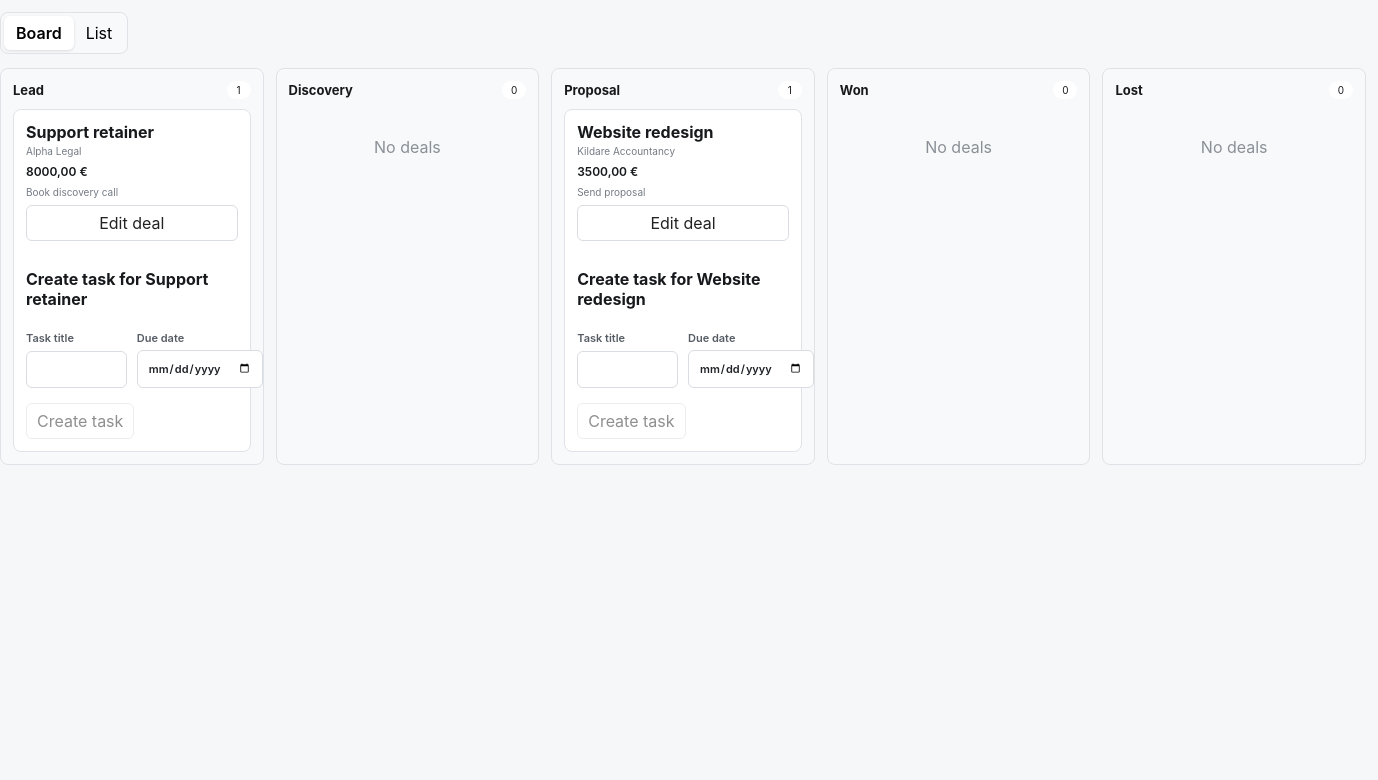
Scenario: deal workflow › switches to list view and filters persisted deals
The image size is (1378, 780).
Click the button "List": click(99, 33) [74,16,124,50]
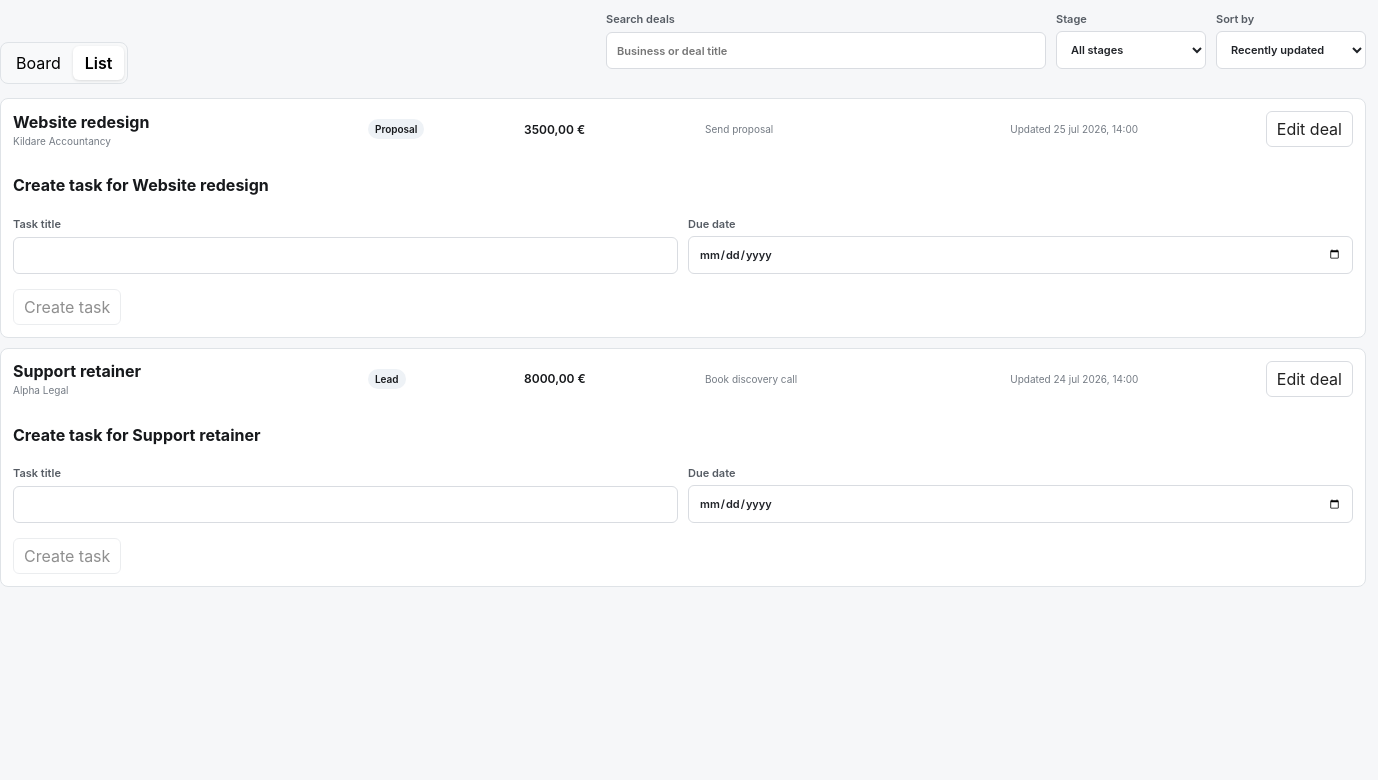
Result: the text "Website redesign" is shown at [13,112,149,132]
Result: the text "Support retainer" is shown at [13,361,141,381]
In the field labelled "Search deals": (826, 50) [606,32,1046,69], type "alpha"
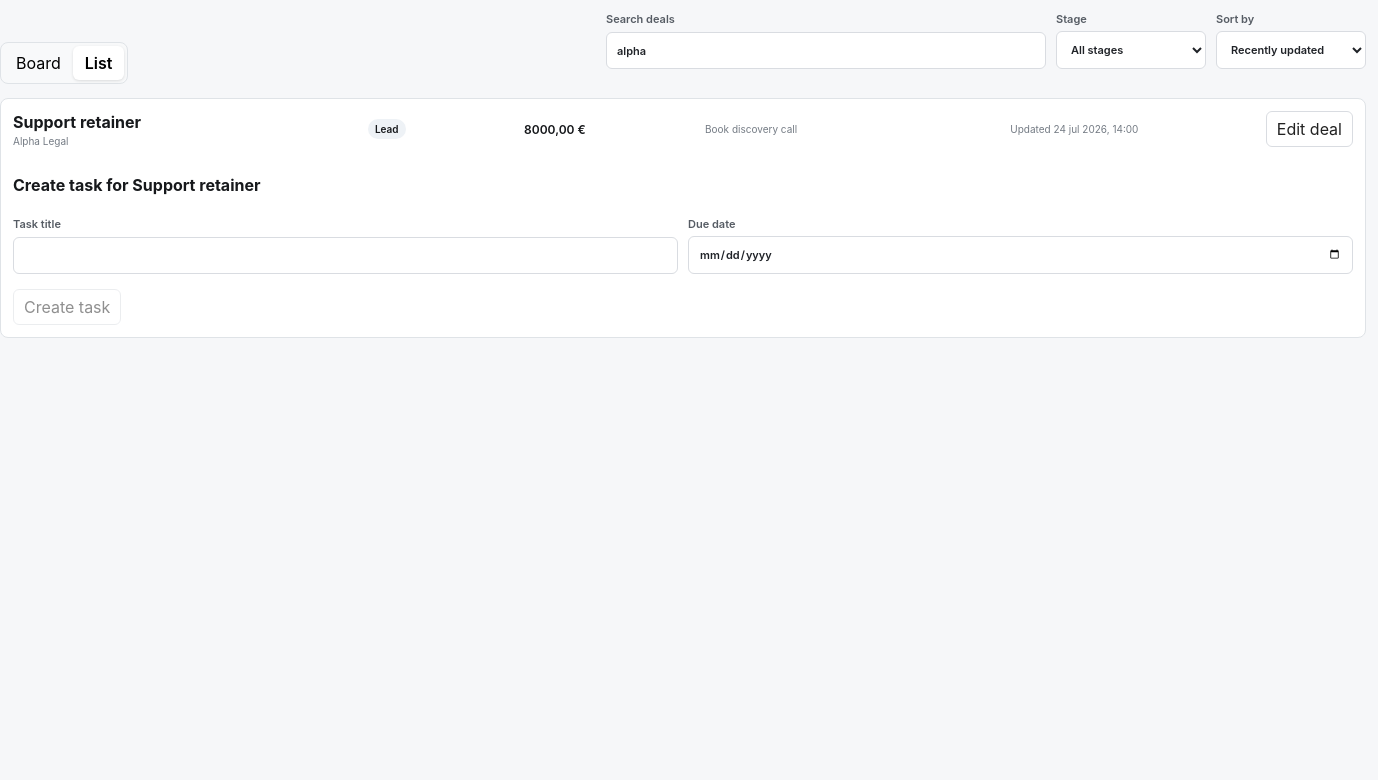
Expected: the text "Support retainer" is shown, [13,112,141,132]
Result: the text "Website redesign" is gone
Clear the field labelled "Search deals": (826, 50) [606,32,1046,69]
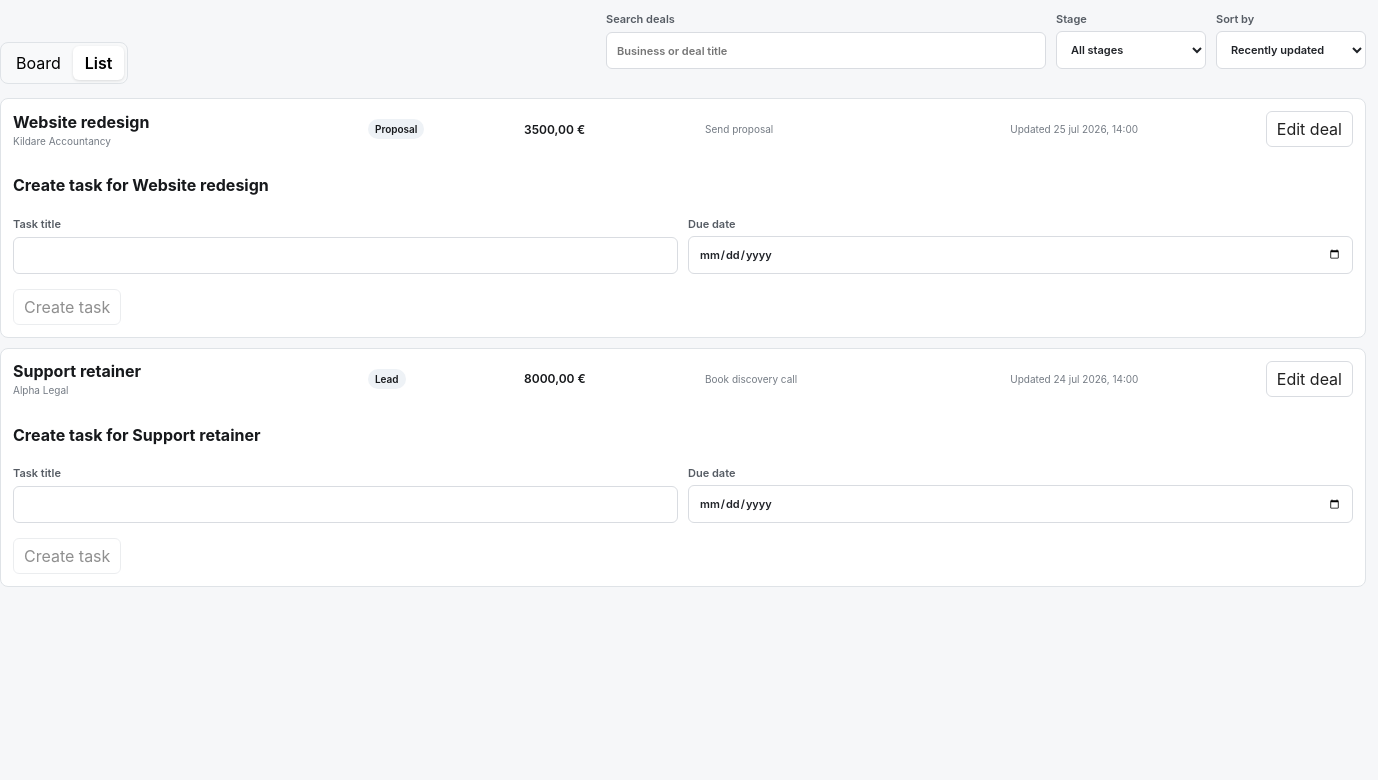
Select "Proposal" in the dropdown labelled "Stage": (1131, 50) [1056,31,1206,69]
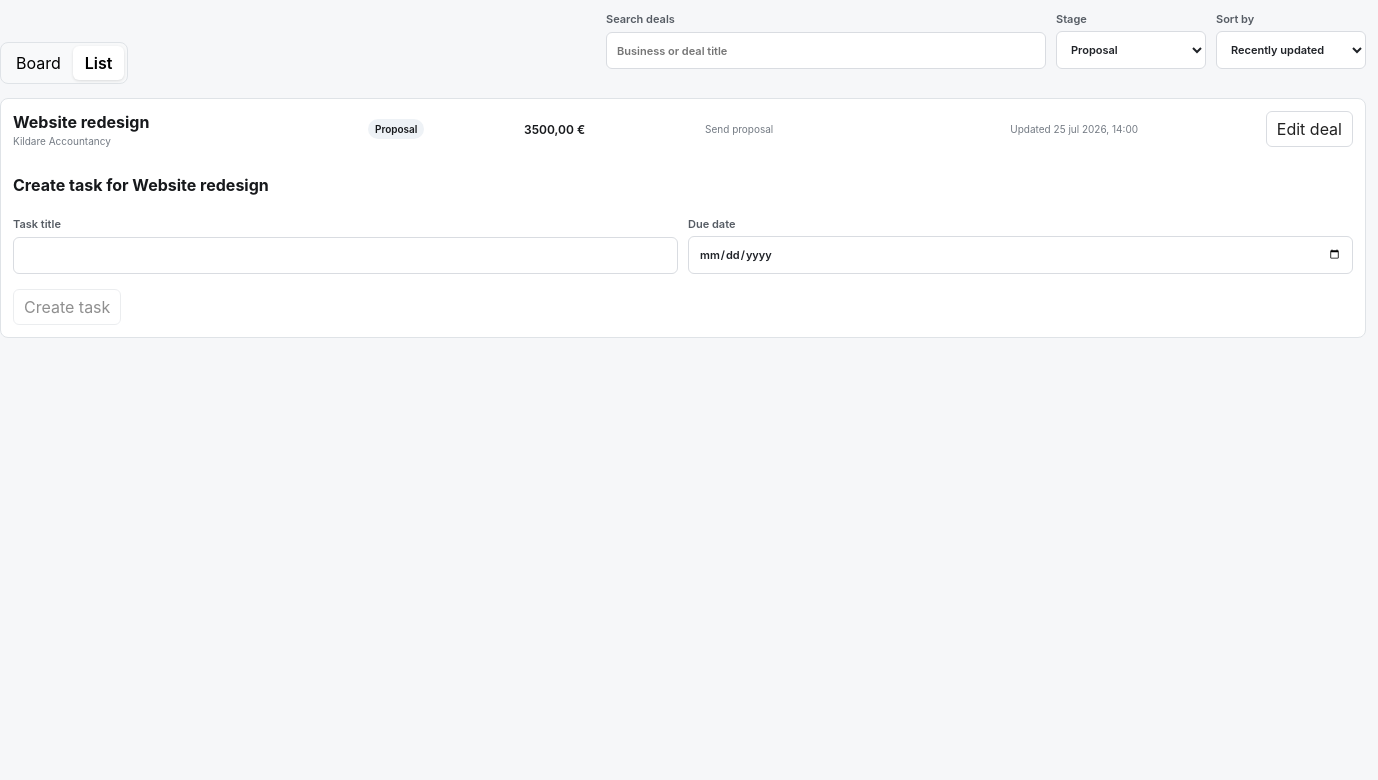
Result: the text "Website redesign" is shown at [13,112,149,132]
Result: the text "Support retainer" is gone
